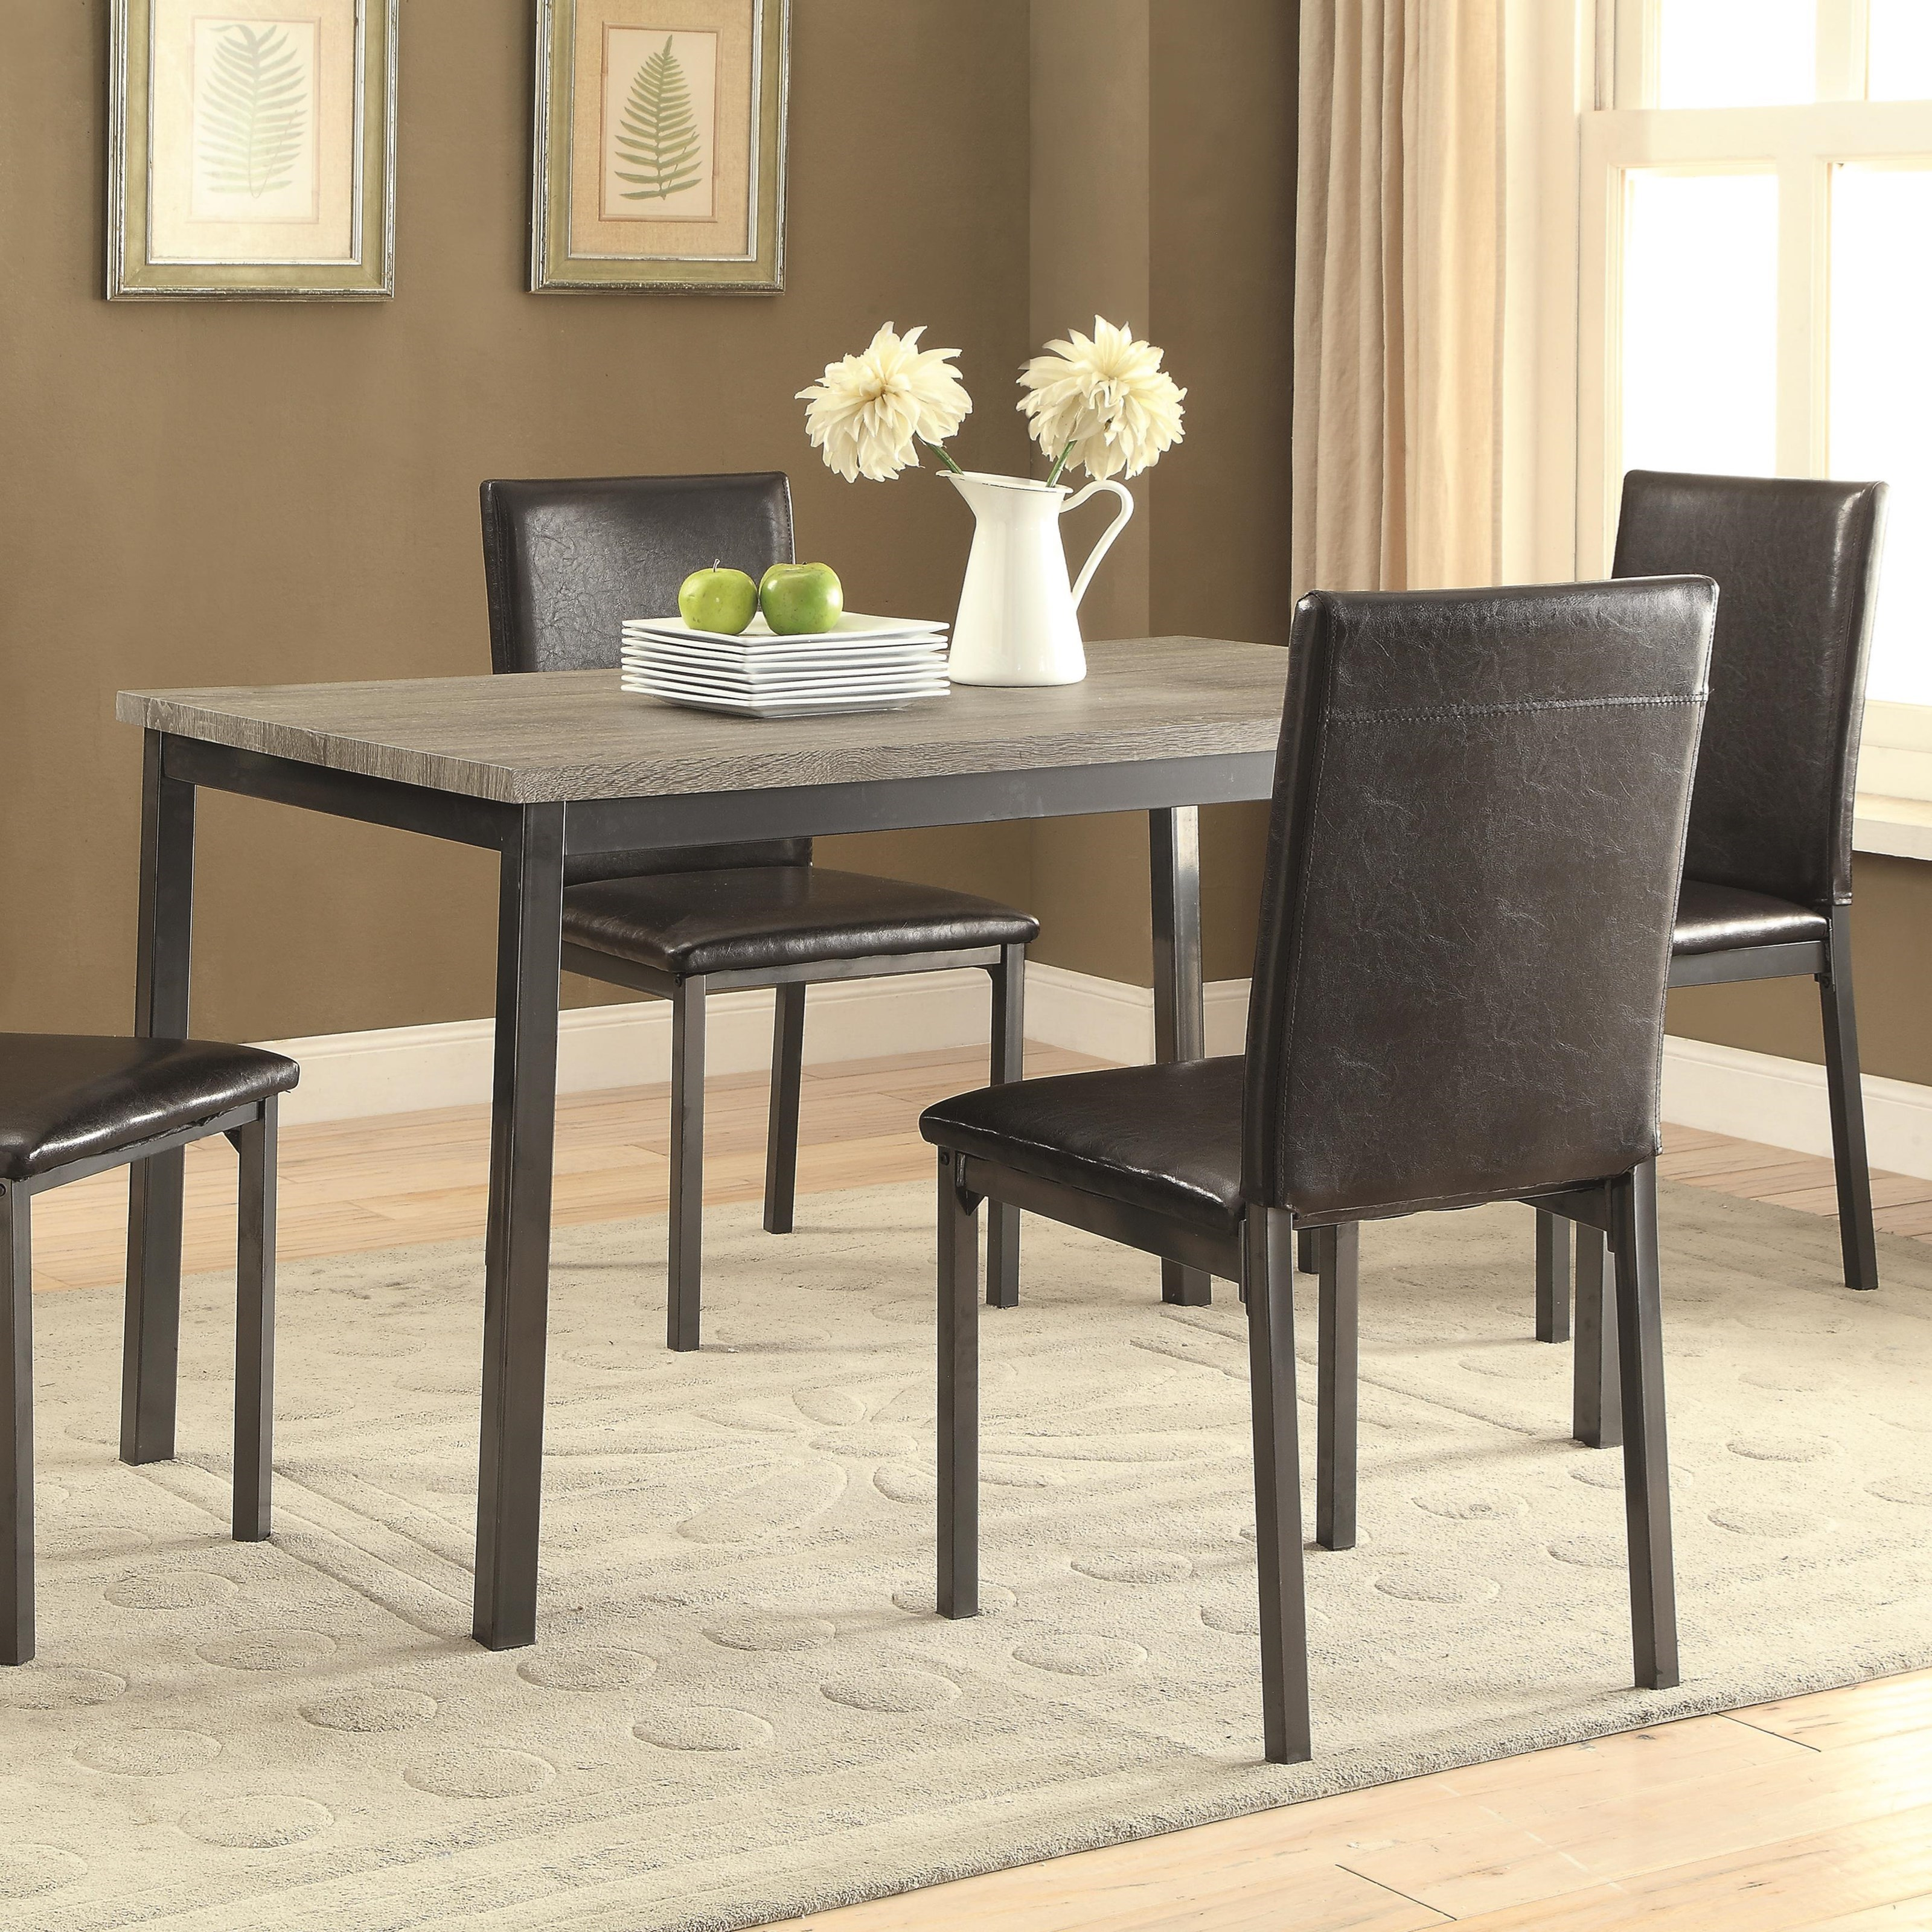diningtable: (0, 479, 1932, 1766)
pottedplant: (796, 304, 1196, 701)
